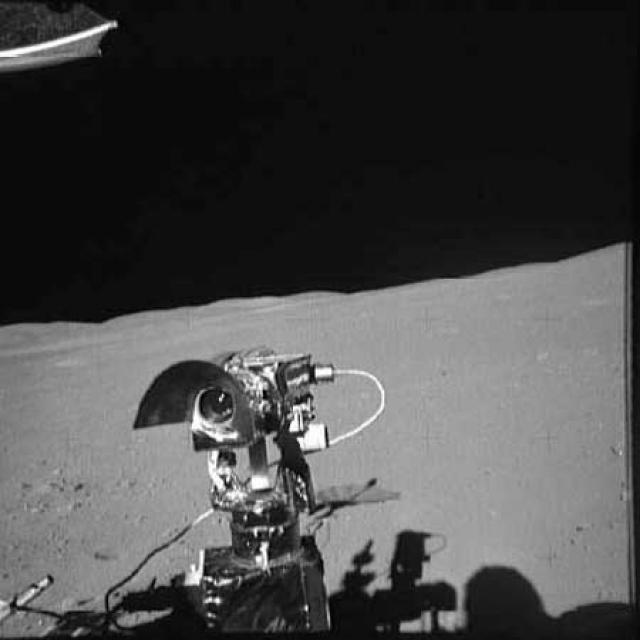artifact: (0, 321, 433, 639), (0, 0, 123, 83)
crater: (80, 538, 132, 563)
